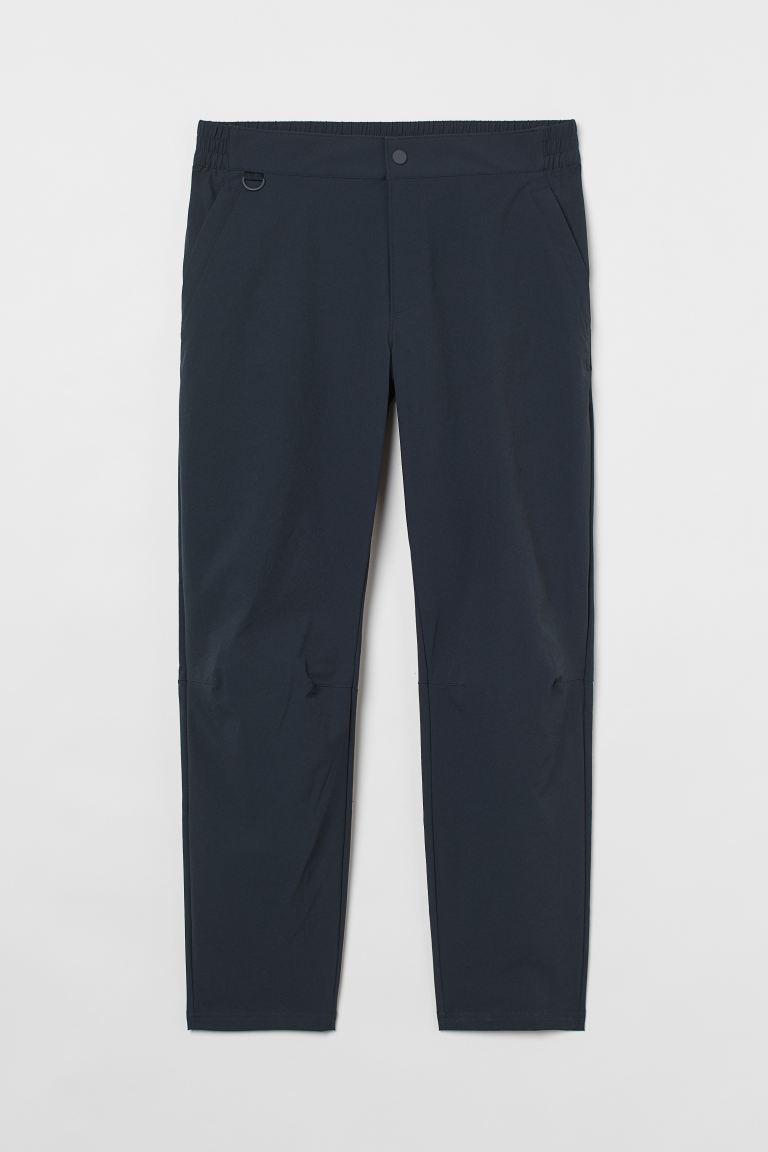pants: (173, 118, 599, 1034)
